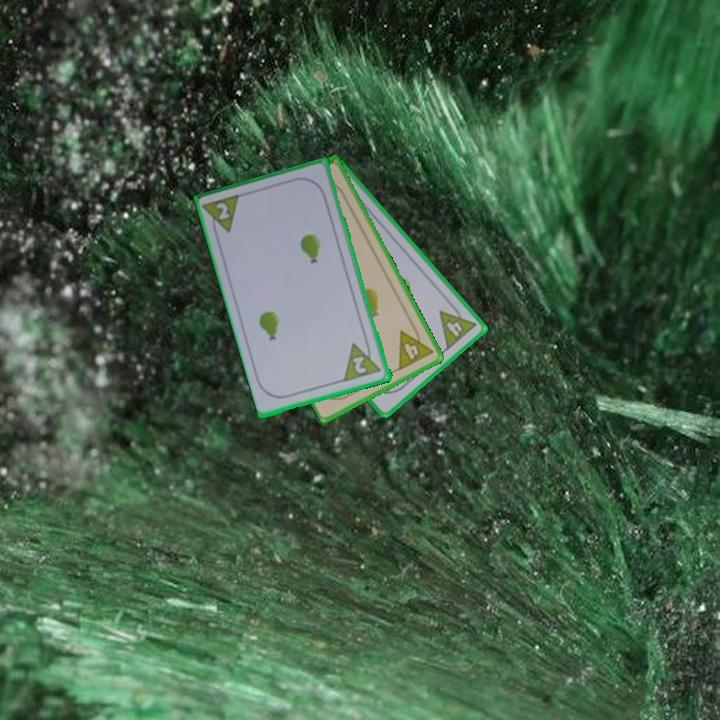2p: (201, 190, 244, 240), (349, 353, 370, 377)
4p: (436, 299, 479, 353), (395, 321, 436, 373)
